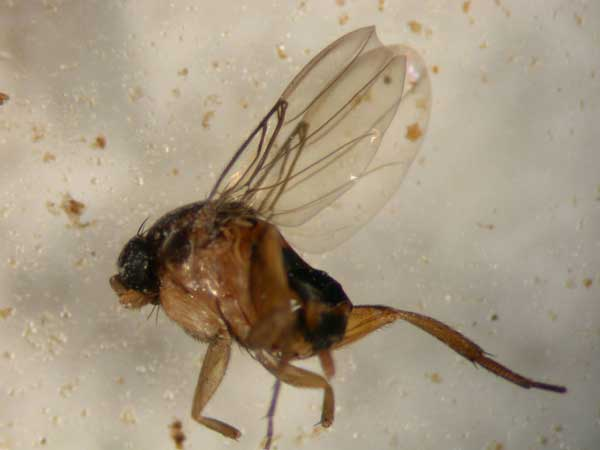phorid fly: (78, 19, 587, 450)
